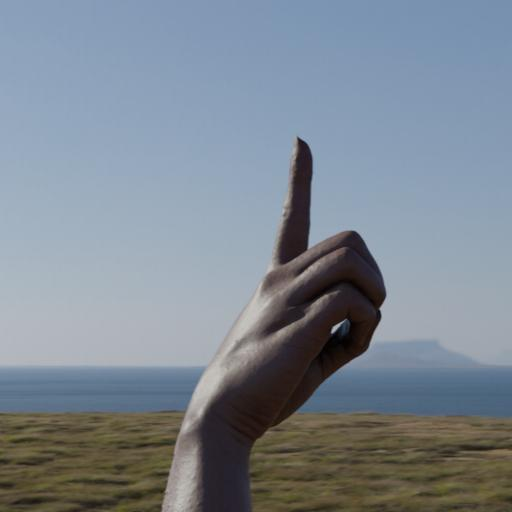D: (156, 108, 432, 434)
